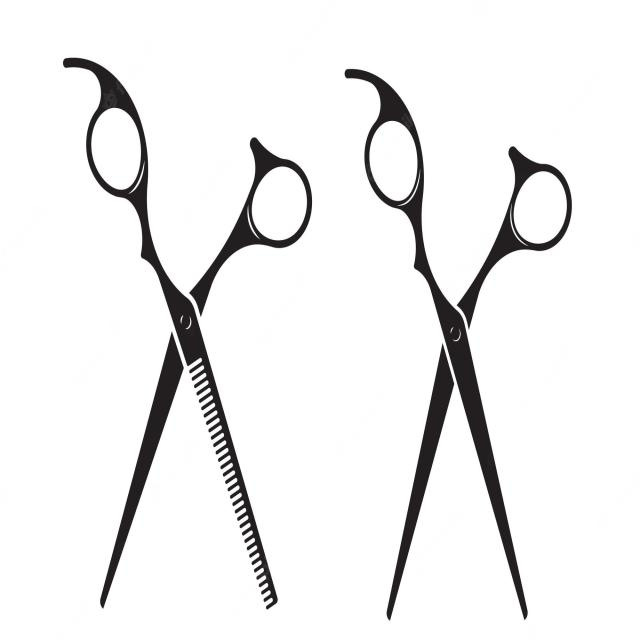scissor: (58, 56, 313, 613)
